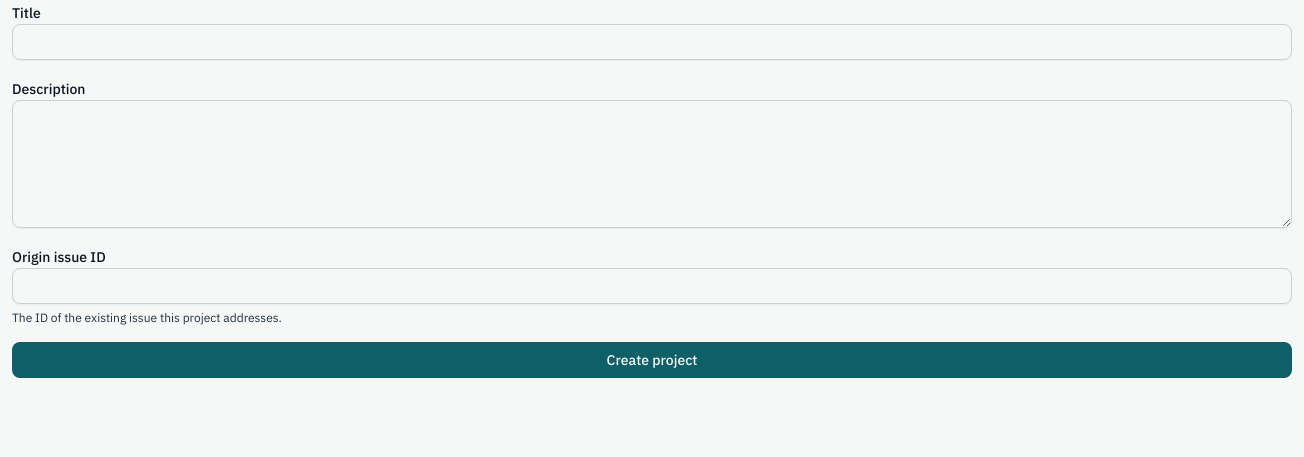
ProjectCreateForm › ineligible origin issue (INVALID_STATE): surfaces the backend message
The image size is (1304, 457).
Type "Pipe repair" into the field labelled "Title". click: (652, 42)
box: [12, 24, 1292, 60]
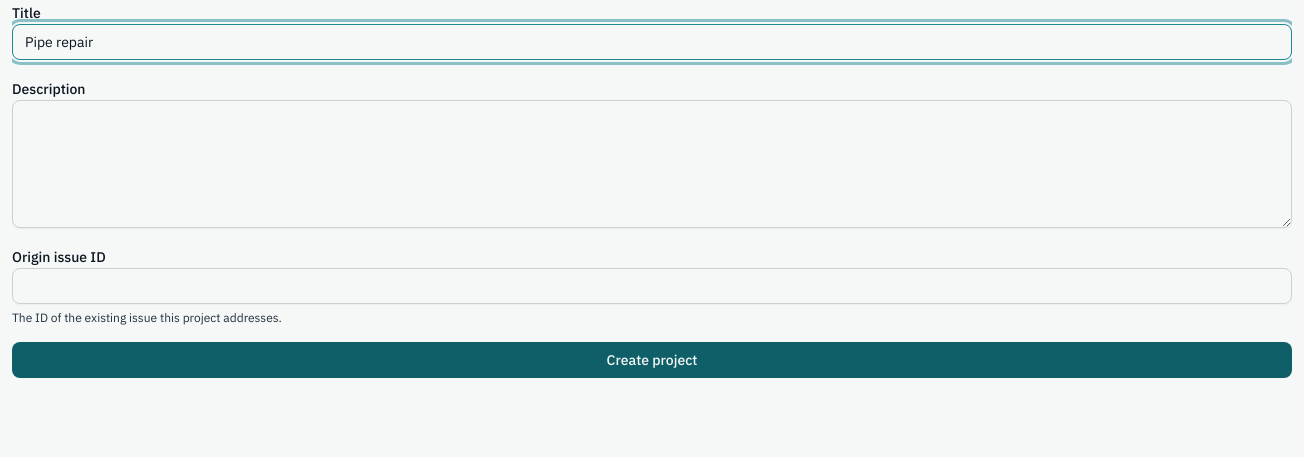
Type "Coordinated fix" into the text box labelled "Description". click: (652, 164)
box: [12, 100, 1292, 228]
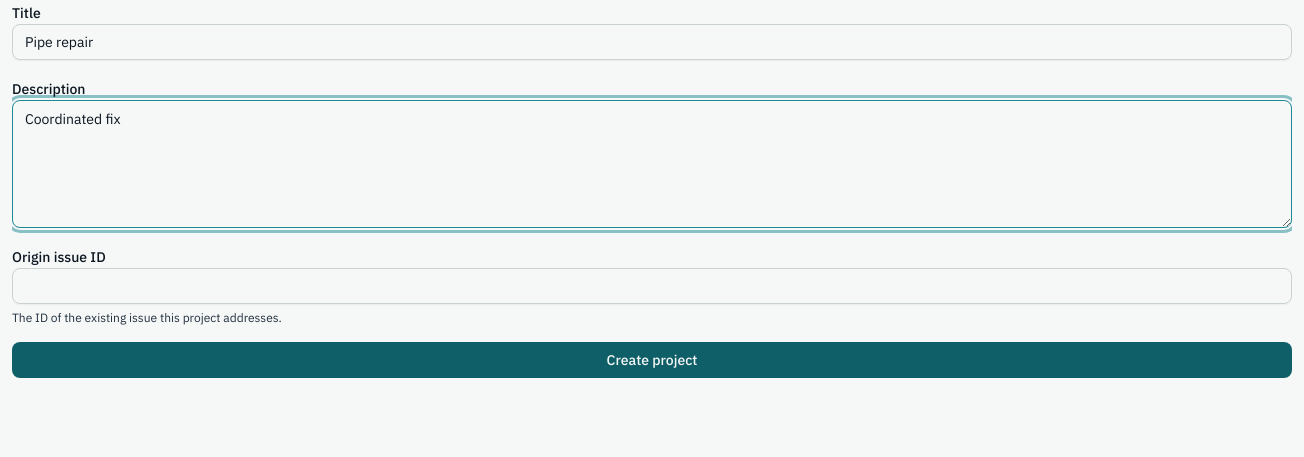
Type "507f1f77bcf86cd799439011" into the field labelled "Origin issue ID". click: (652, 286)
box: [12, 268, 1292, 304]
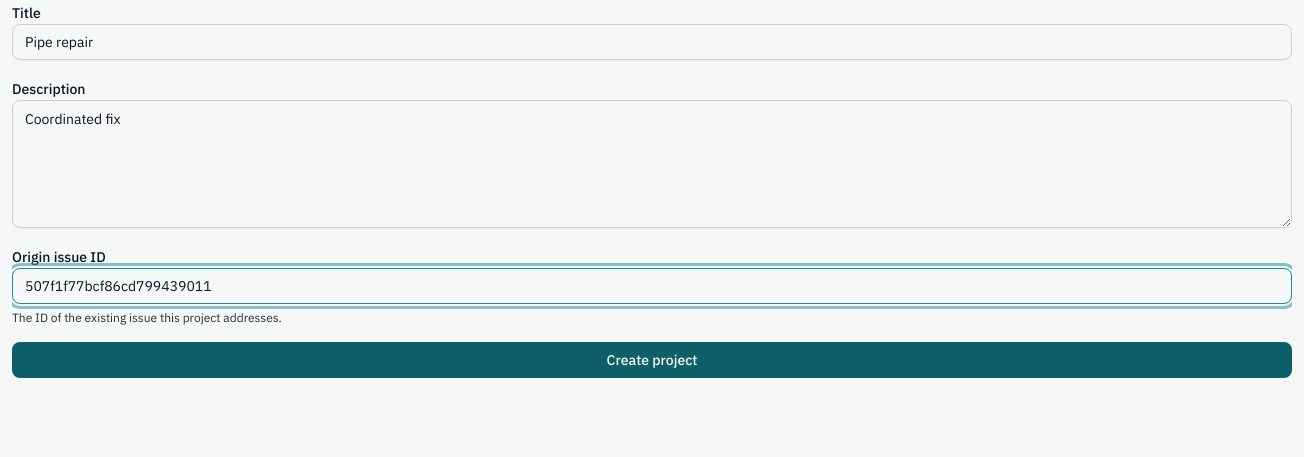
Click the button "Create project". click: (652, 360)
box: [12, 342, 1292, 378]
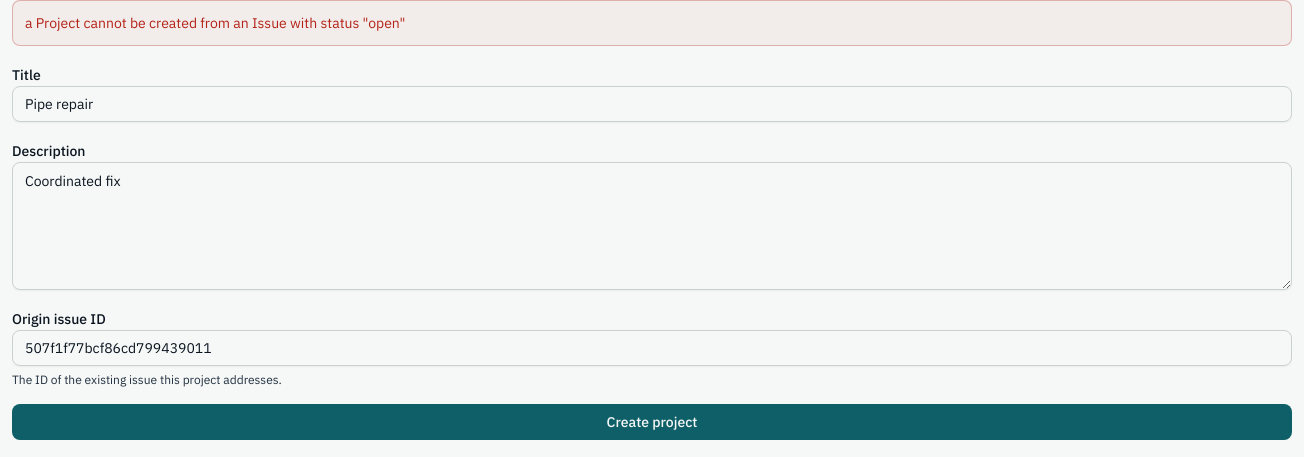
Check: the message shows "status \"open\"", box [25, 14, 406, 32]
